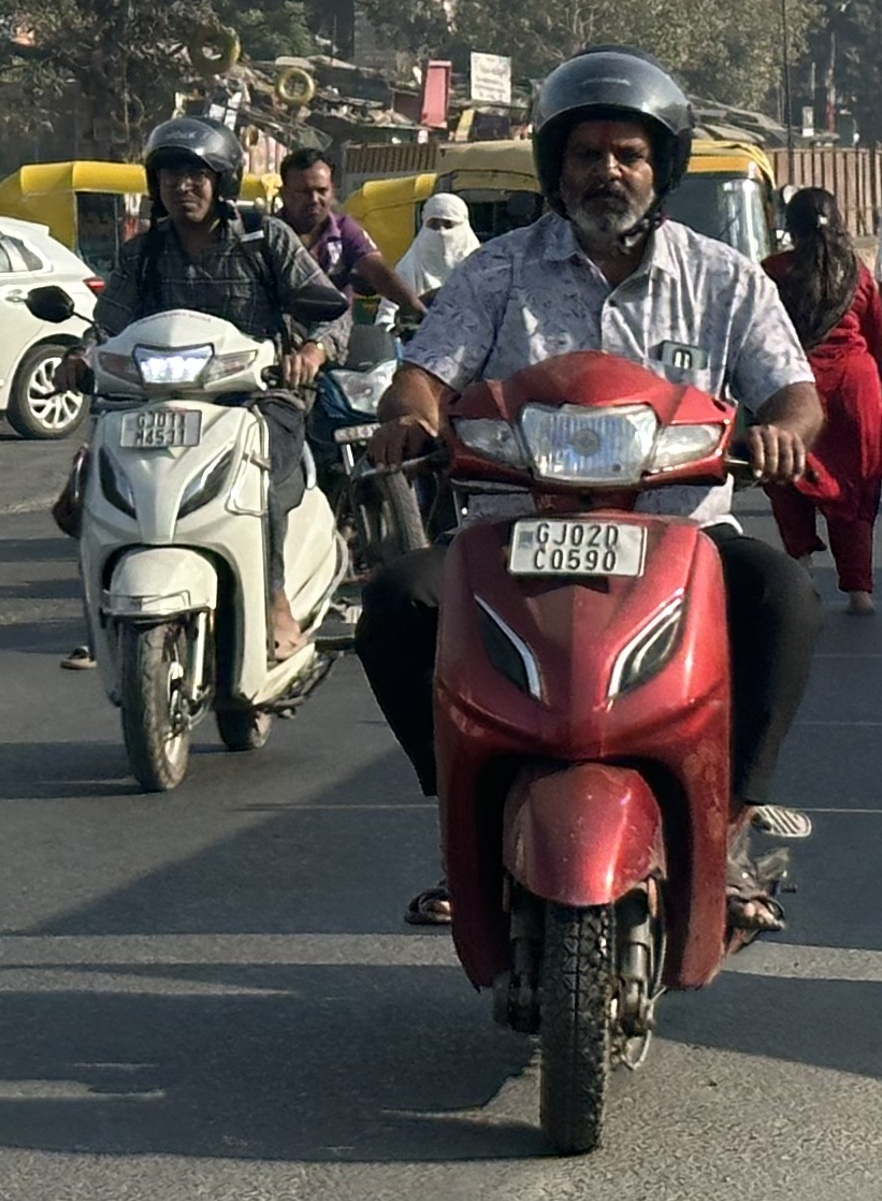BikeWithRider: (337, 38, 839, 1169), (13, 102, 431, 802)
Helmet: (516, 37, 709, 258), (127, 104, 257, 242)
NoHelmet: (267, 137, 351, 234)
